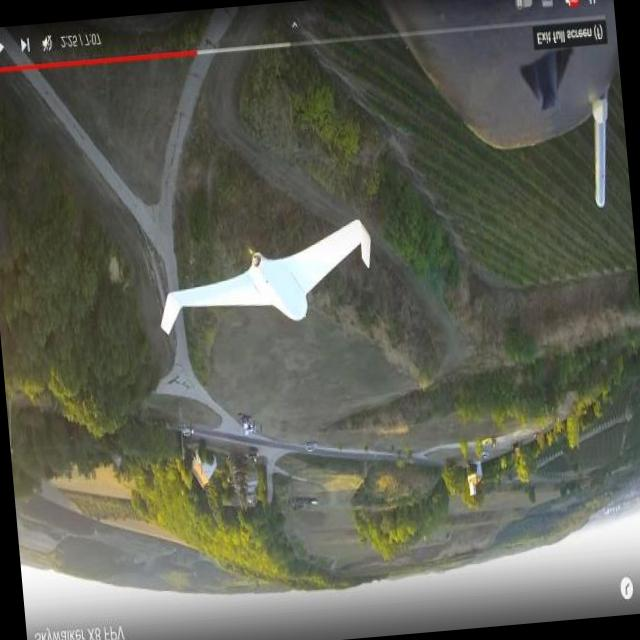UAV: (152, 242, 406, 376)
